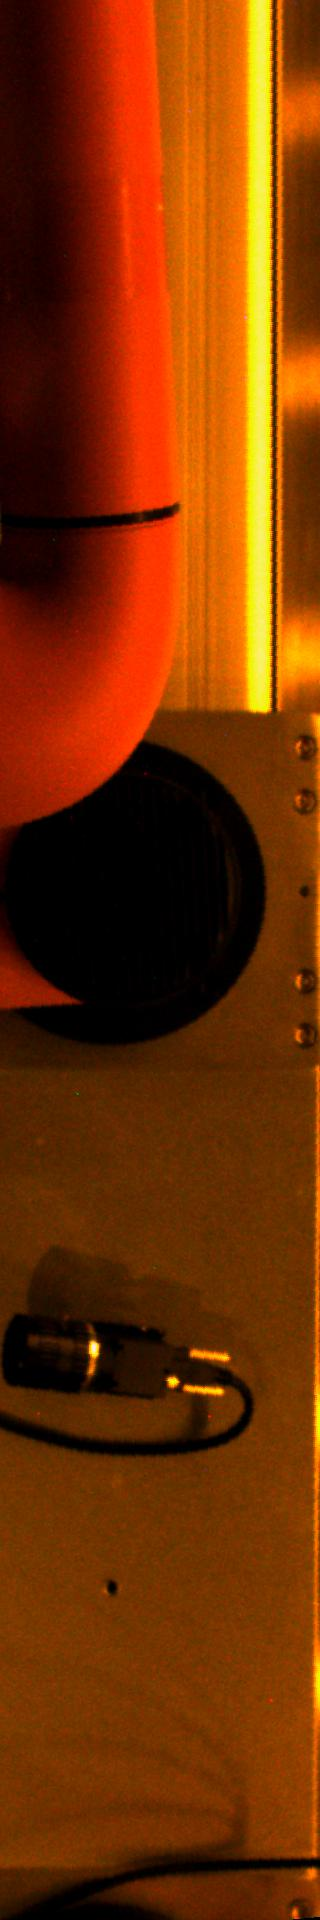keyPoint_2: (97, 1572, 128, 1602)
